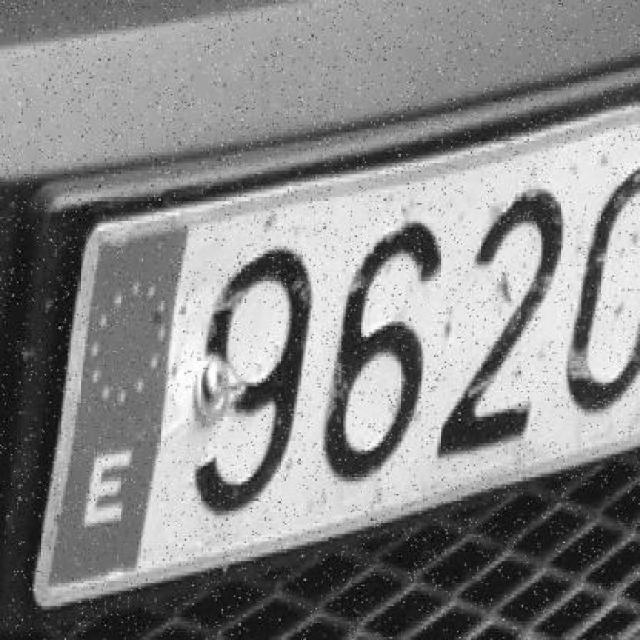licenseplate: (6, 129, 640, 628)
